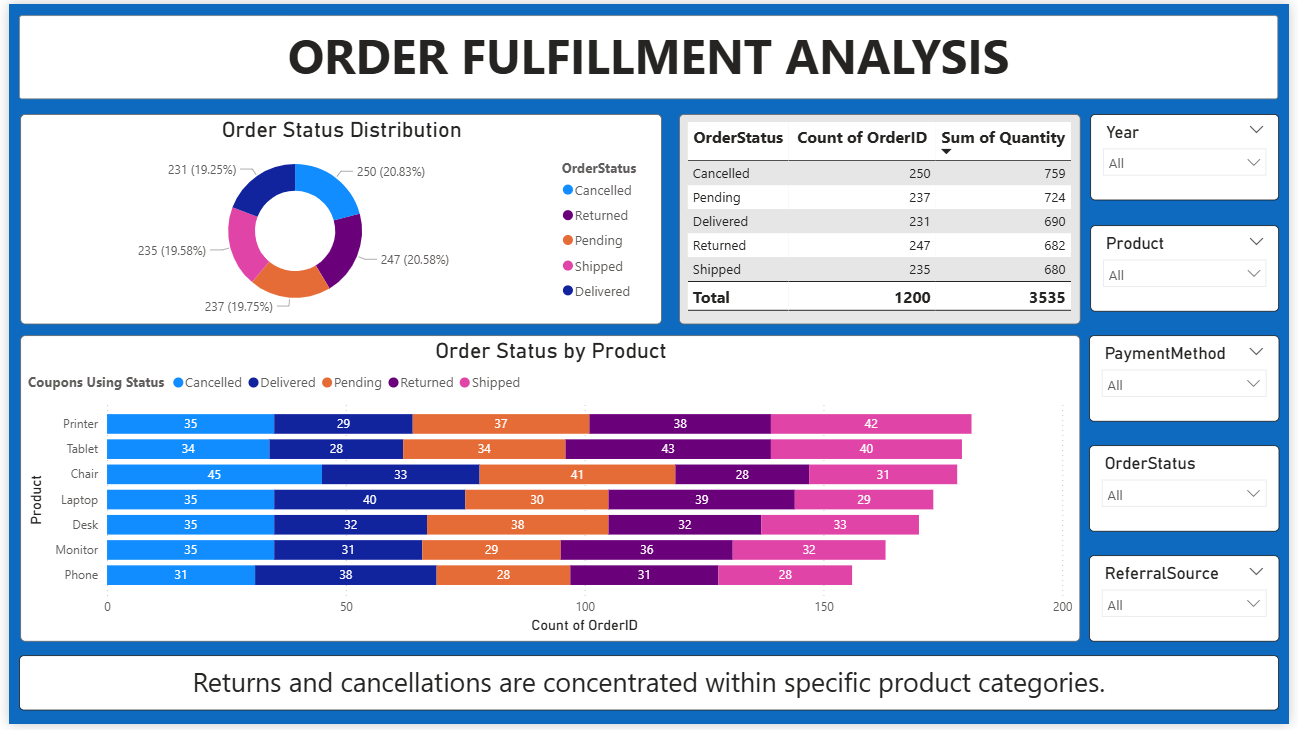

Layout of this report page (visuals, bound fields, positions):
{"tool":"powerbi","page":{"name":"Page 5","canvas":[1280,720],"ordinal":4},"visuals":[{"type":"textbox","box":[10.1,11.5,1259.5,83.7],"z":0},{"type":"textbox","box":[10,651.7,1260,55],"z":1000},{"type":"slicer","fields":{"Values":["E-Commerce Orders.Date.Variation.Date Hierarchy.Year"]},"box":[1080.6,109.6,189,86.6],"z":2000},{"type":"donutChart","title":"Order Status Distribution","fields":{"Y":["CountNonNull(E-Commerce Orders.OrderID)"],"Category":["E-Commerce Orders.OrderStatus"]},"box":[11.7,110,641.7,210],"z":3000},{"type":"slicer","fields":{"Values":["E-Commerce Orders.Product"]},"box":[1080.9,220.9,189.1,86.4],"z":4000},{"type":"slicer","fields":{"Values":["E-Commerce Orders.PaymentMethod"]},"box":[1080,331.8,190,86.4],"z":5000},{"type":"slicer","fields":{"Values":["E-Commerce Orders.OrderStatus"]},"box":[1080,441.8,190,86.4],"z":6000},{"type":"slicer","fields":{"Values":["E-Commerce Orders.ReferralSource"]},"box":[1080,551.7,190,86.7],"z":7000},{"type":"barChart","title":"Order Status by Product","fields":{"Category":["E-Commerce Orders.Product"],"Series":["E-Commerce Orders.OrderStatus"],"Y":["CountNonNull(E-Commerce Orders.OrderID)"]},"box":[11.7,331.7,1060,306.7],"z":8000},{"type":"tableEx","fields":{"Values":["E-Commerce Orders.OrderStatus","E-Commerce Orders.OrderID","Sum(E-Commerce Orders.Quantity)"]},"box":[670,110,401.7,210],"z":9000}]}

Visuals, with their boxes in screenshot pixels (x1, y1, x2, y2), scaled from the page's 1280x720 canvas onto the 1298x730 screenshot:
textbox: crop(10, 12, 1287, 97)
textbox: crop(10, 661, 1288, 717)
slicer - E-Commerce Orders.Date.Variation.Date Hierarchy.Year: crop(1096, 111, 1287, 199)
"Order Status Distribution" donutChart: crop(12, 112, 663, 324)
slicer - E-Commerce Orders.Product: crop(1096, 224, 1288, 312)
slicer - E-Commerce Orders.PaymentMethod: crop(1095, 336, 1288, 424)
slicer - E-Commerce Orders.OrderStatus: crop(1095, 448, 1288, 536)
slicer - E-Commerce Orders.ReferralSource: crop(1095, 559, 1288, 647)
"Order Status by Product" barChart: crop(12, 336, 1087, 647)
tableEx - E-Commerce Orders.OrderStatus x E-Commerce Orders.OrderID: crop(679, 112, 1087, 324)
